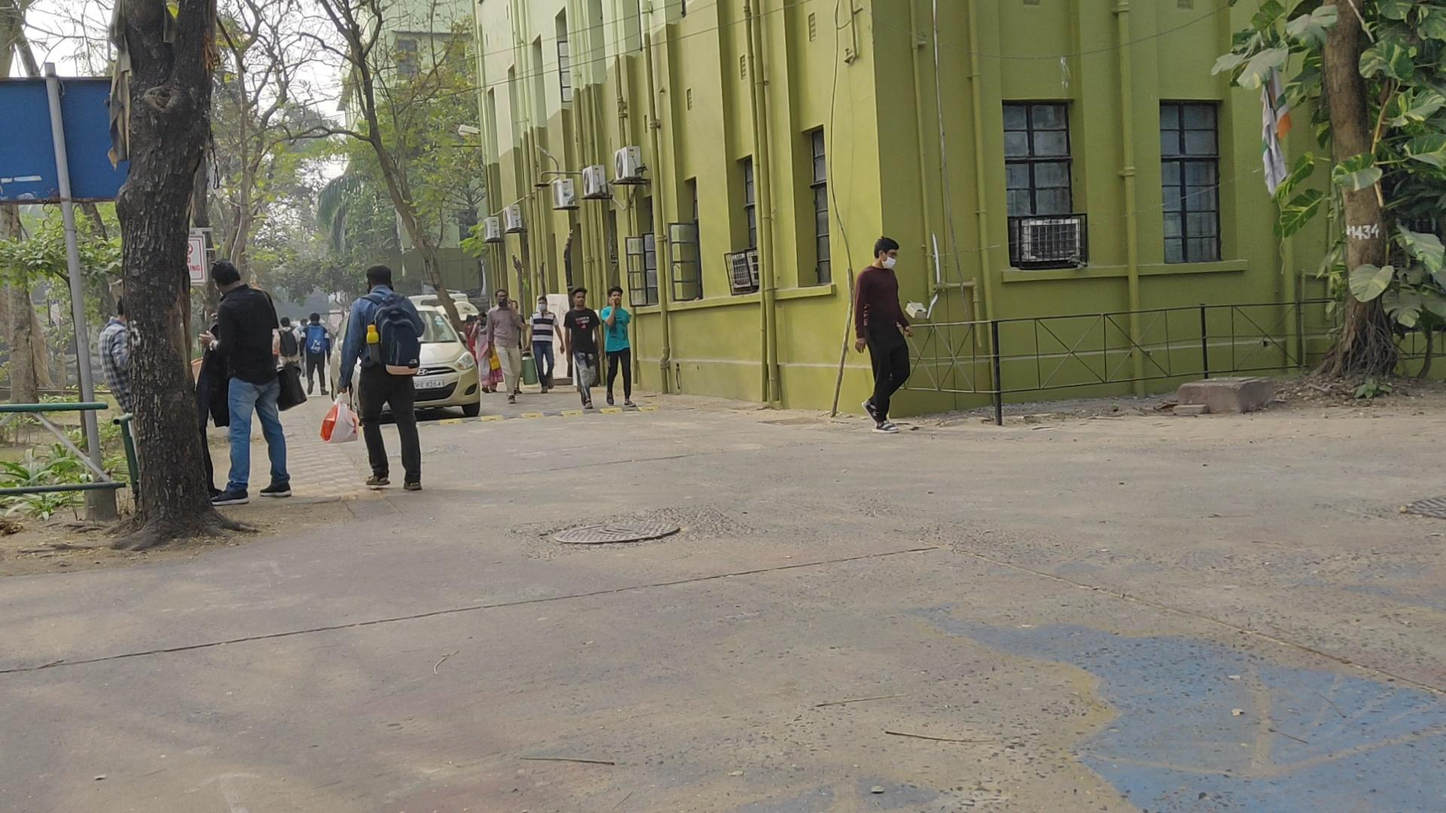car: (329, 304, 481, 423)
